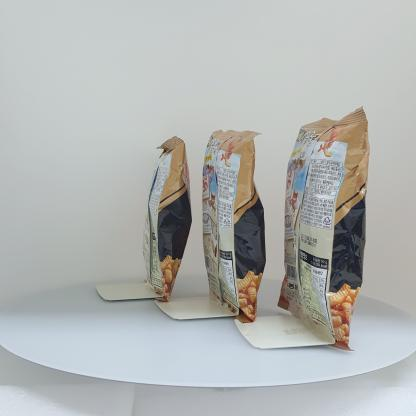Plastic Packaging: (274, 100, 376, 346), (207, 124, 259, 320), (144, 117, 194, 304)
